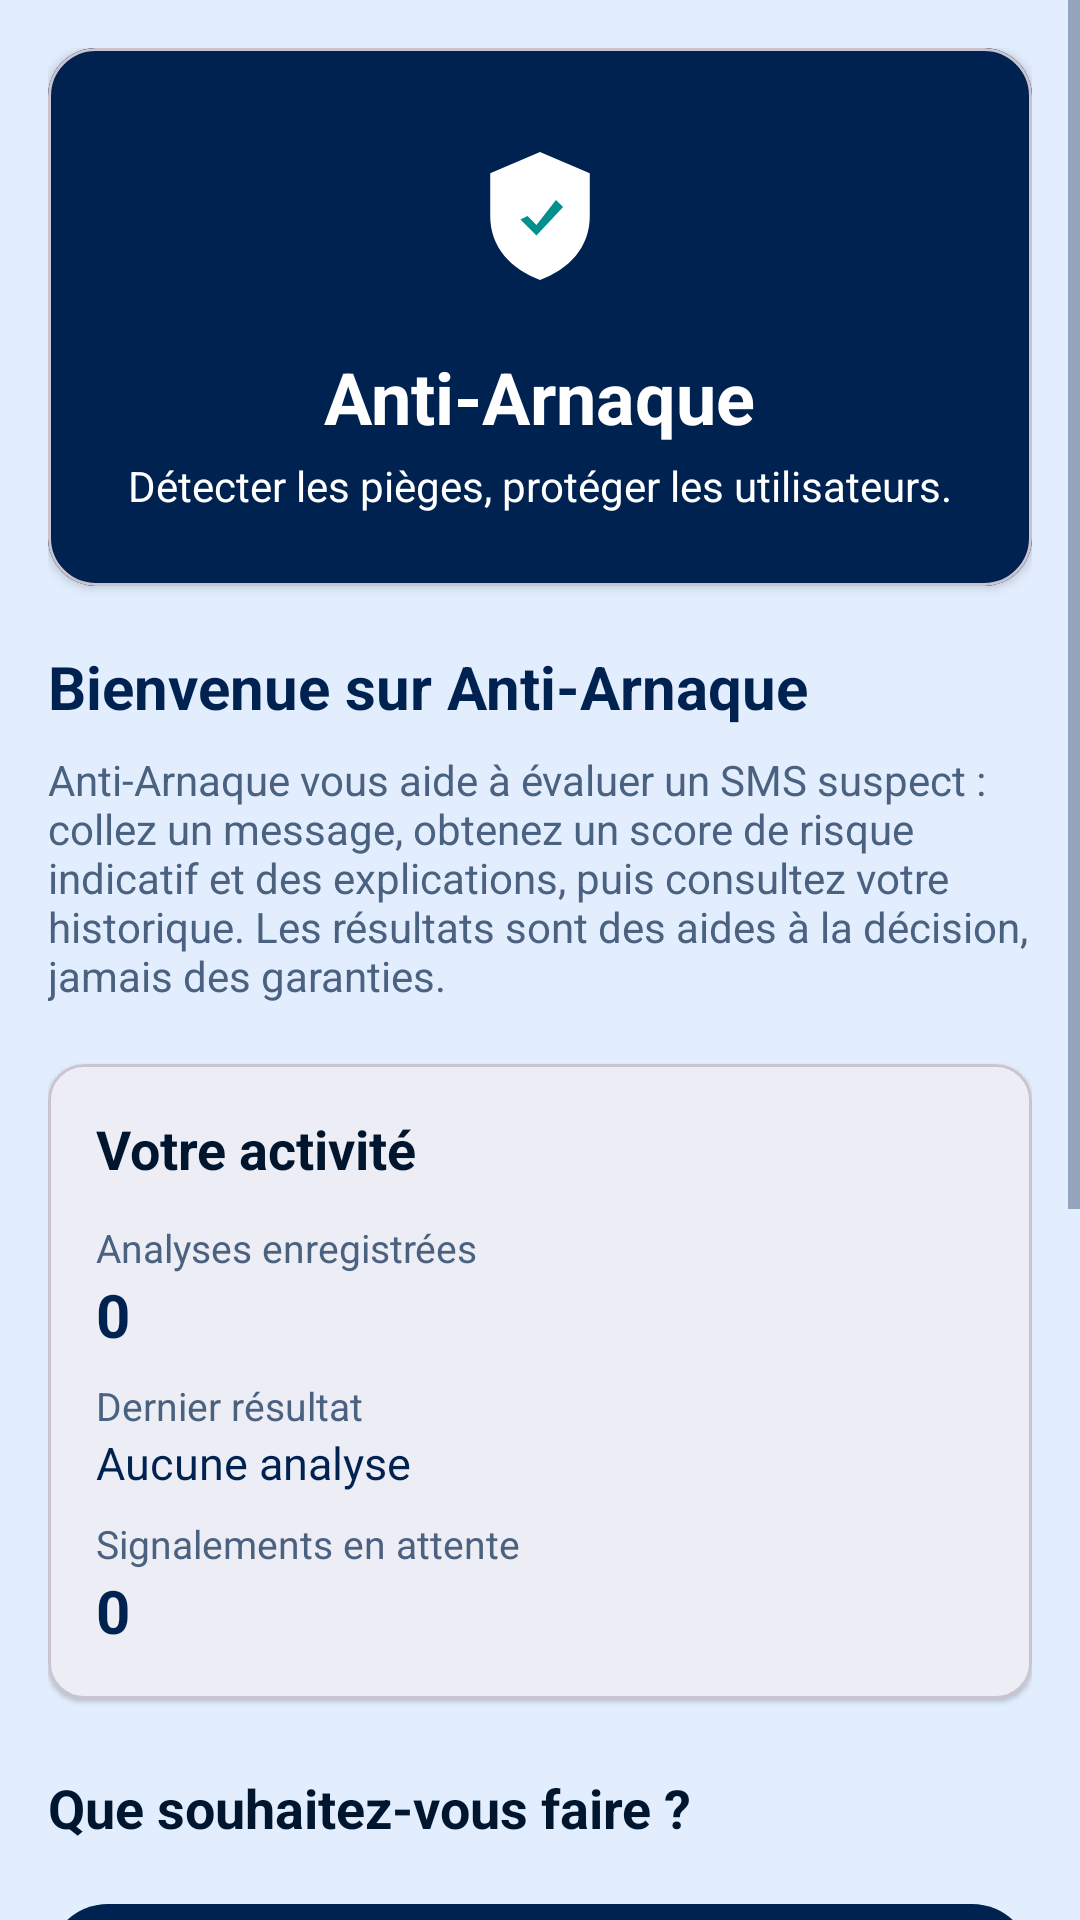

Icon bounding boxes for this 1080×1920 phone screenshot, format (x1, y1, x2, y2):
shield: (490, 152, 590, 280)
